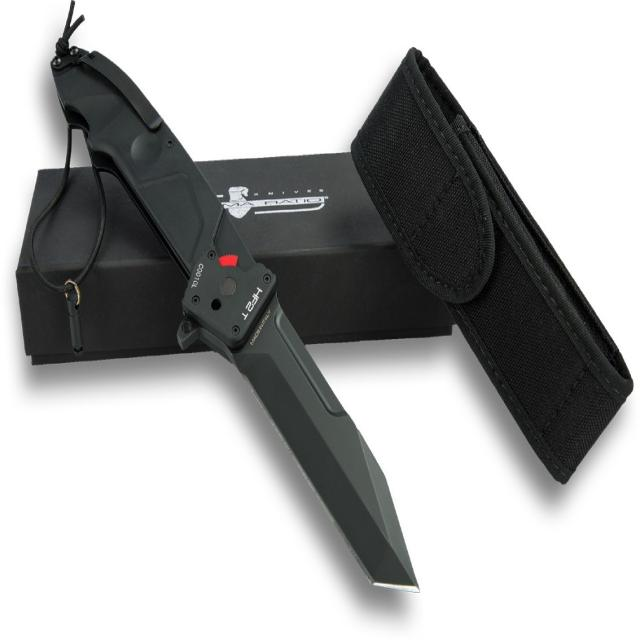knife: (48, 47, 425, 598)
